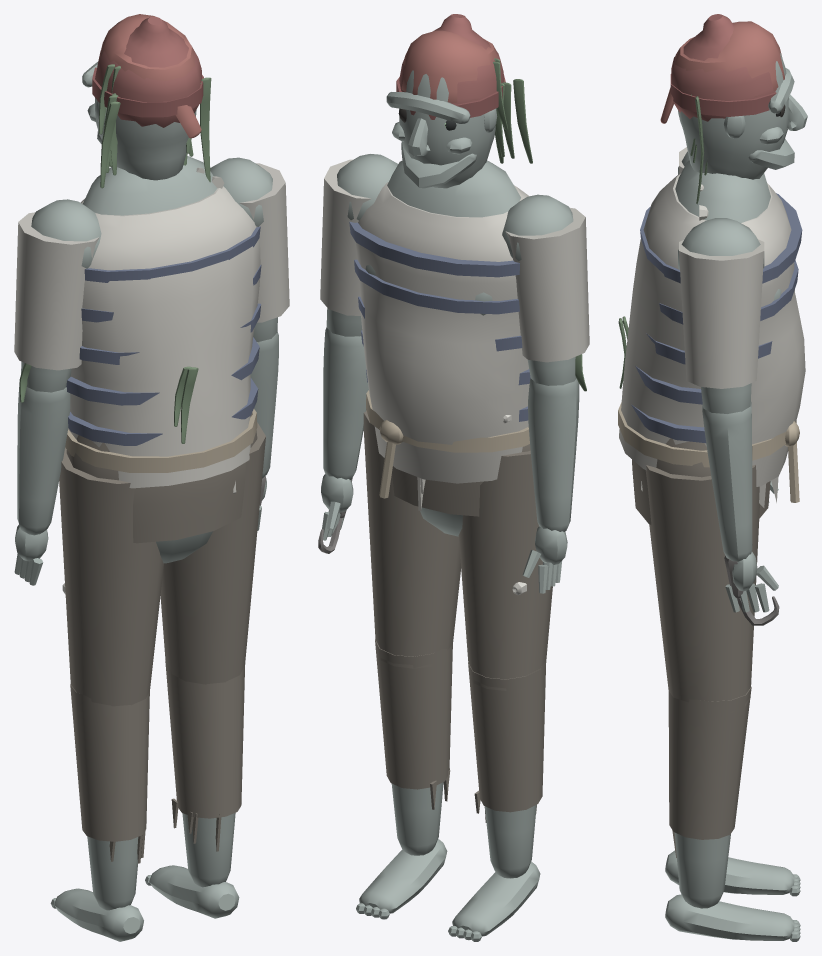
The model's file is en_drowned.gltf.
The picture shows the model from 3 angles, left to right: view 1: azimuth 30°, elevation 25°; view 2: azimuth 150°, elevation 25°; view 3: azimuth 270°, elevation 25°; orthographic projection. The views are drawn at different scales.
Parts seen in each view (by area): view 1: Spine, LegL, ShinL, ShinR, LegR, Hips, ArmL, ForeL, V1_Cap, ArmR, Head, V2_Bandana (+2 smaller); view 2: Spine, ShinL, ShinR, LegL, LegR, ArmL, ForeL, ForeR, Head, Hips, ArmR, V2_Bandana (+3 smaller); view 3: Spine, LegR, ShinR, ArmR, ForeR, Head, V1_Cap, Hips, V2_Bandana, ShinL, Jaw, V3_Hook (+1 smaller).
Boxes of the visible parts, bbox=[...] form: Spine: bbox=[31, 156, 272, 493]; LegL: bbox=[59, 447, 163, 706]; ShinL: bbox=[50, 684, 149, 941]; ShinR: bbox=[145, 661, 245, 918]; LegR: bbox=[160, 422, 265, 684]; Hips: bbox=[65, 409, 257, 563]; ArmL: bbox=[14, 212, 99, 402]; ForeL: bbox=[14, 382, 70, 585]; V1_Cap: bbox=[92, 16, 203, 127]; ArmR: bbox=[239, 163, 289, 342]; Head: bbox=[82, 61, 196, 180]; V2_Bandana: bbox=[99, 14, 201, 138]; Spine: bbox=[337, 154, 573, 510]; ShinL: bbox=[448, 661, 546, 941]; ShinR: bbox=[356, 639, 452, 919]; LegL: bbox=[458, 450, 552, 690]; LegR: bbox=[363, 410, 461, 668]; ArmL: bbox=[505, 208, 589, 391]; ForeL: bbox=[522, 378, 579, 593]; ForeR: bbox=[321, 327, 368, 540]; Head: bbox=[386, 70, 497, 188]; Hips: bbox=[366, 390, 530, 536]; ArmR: bbox=[320, 159, 371, 336]; V2_Bandana: bbox=[398, 30, 497, 122]; Spine: bbox=[618, 151, 805, 507]; LegR: bbox=[645, 464, 759, 712]; ShinR: bbox=[665, 686, 800, 941]; ArmR: bbox=[679, 239, 764, 413]; ForeR: bbox=[702, 402, 778, 612]; Head: bbox=[678, 53, 807, 179]; V1_Cap: bbox=[670, 14, 776, 121]; Hips: bbox=[618, 402, 799, 524]; V2_Bandana: bbox=[660, 21, 785, 123]; ShinL: bbox=[665, 850, 800, 896]; Jaw: bbox=[748, 139, 794, 169]; V3_Hook: bbox=[724, 556, 779, 625].
Bounding box in the file's own units: 0.5589 × 1.82 × 0.3482.
